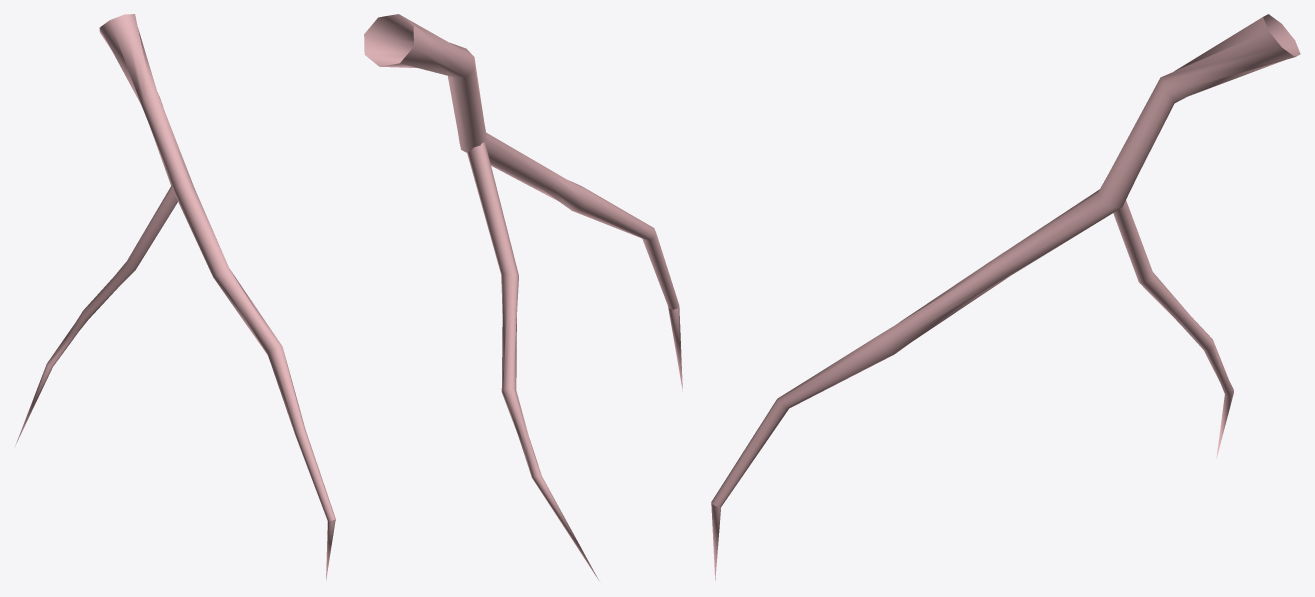
3 renders of one model, left to right at view 1: azimuth 30°, elevation 25°; view 2: azimuth 150°, elevation 25°; view 3: azimuth 270°, elevation 25°, orthographic. The views are drawn at different scales.
Parts seen in each view (by area): view 1: Object65; view 2: Object65; view 3: Object65.
Part boxes in pixels (box(x1,y1,x2,y2)): Object65: box(14, 14, 335, 580); Object65: box(364, 14, 682, 580); Object65: box(711, 14, 1300, 580).
Size of the model in its own units: 4937 by 13527 by 12744.
